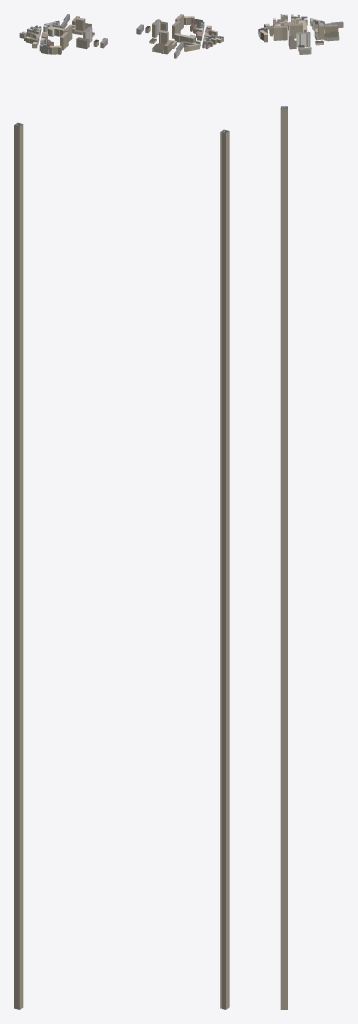
3 views of the same model, side by side, from view 1: azimuth 30°, elevation 25°; view 2: azimuth 210°, elevation 25°; view 3: azimuth 330°, elevation 25° (orthographic). The views are drawn at different scales.
Visible parts, largest first — view 1: tuile; view 2: tuile; view 3: tuile.
Boxes of the visible parts, x1,y1,x2,y2 form: tuile: [14, 14, 107, 1009]; tuile: [136, 14, 229, 1009]; tuile: [258, 14, 343, 1009].
Size of the model in its own units: 294 by 4102 by 295.
